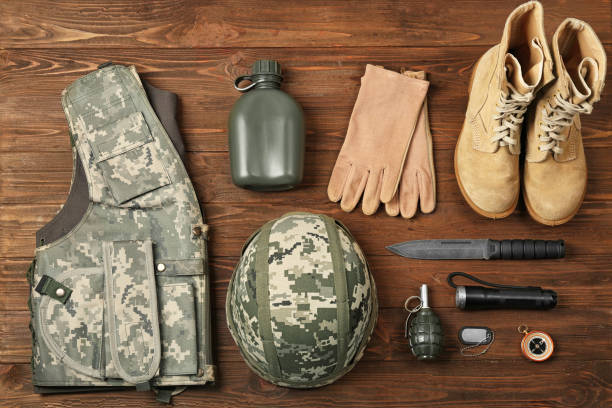e1: (399, 279, 443, 364)
